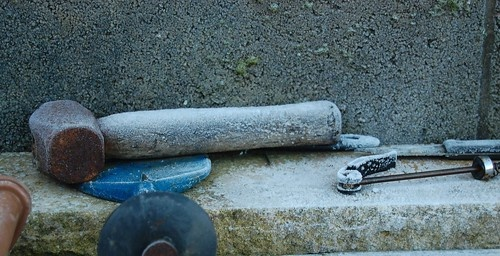hammer: (27, 96, 344, 184)
